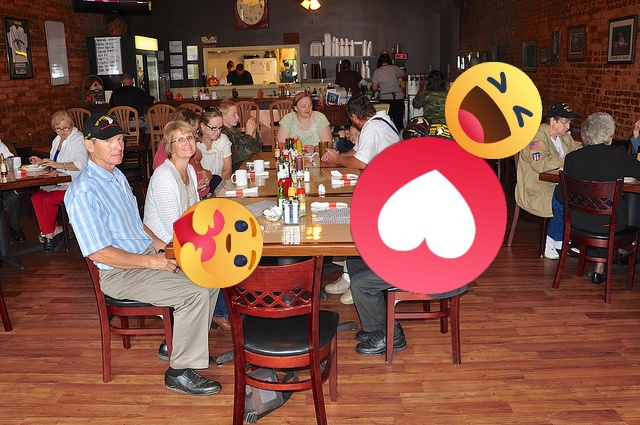care: (173, 198, 263, 288)
haha: (445, 62, 542, 159)
love: (350, 137, 507, 294)
